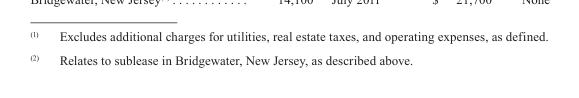table: (29, 28, 547, 66)
table column: (48, 28, 547, 66), (29, 28, 48, 66)
table row: (29, 28, 547, 47), (29, 47, 547, 66)
